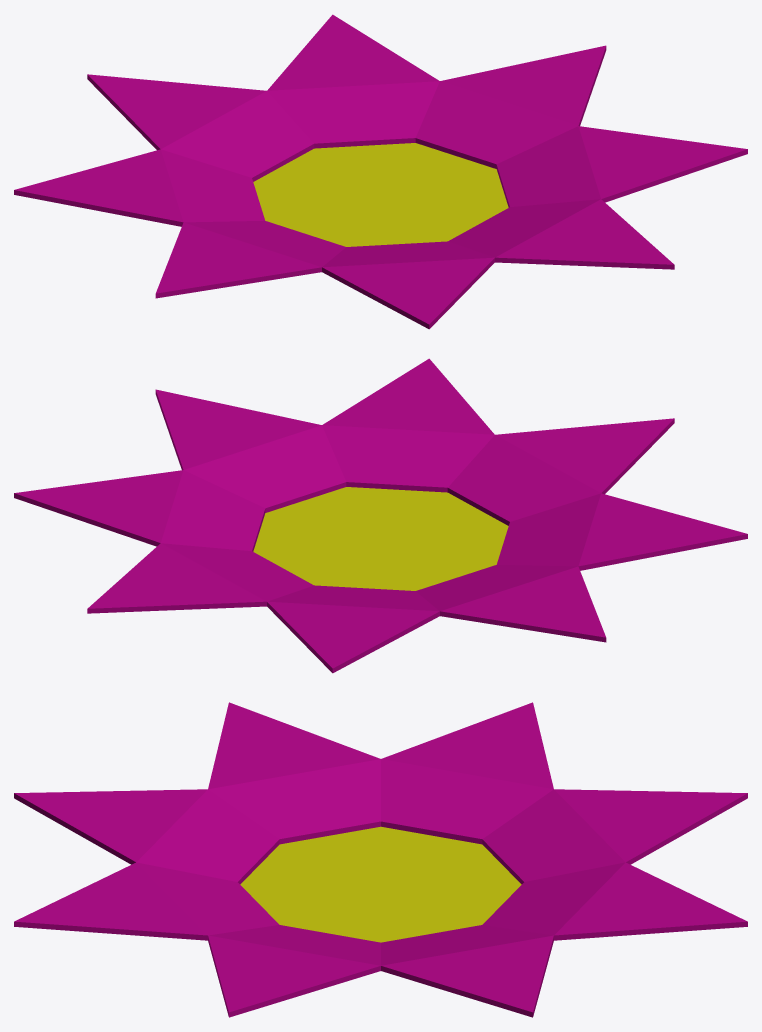
Rendered from cactus bloem.fbx.
3 views of the same model, one above another, from view 1: azimuth 30°, elevation 25°; view 2: azimuth 150°, elevation 25°; view 3: azimuth 270°, elevation 25° (orthographic). The views are drawn at different scales.
Parts seen in each view (by area): view 1: cactus bloem; view 2: cactus bloem; view 3: cactus bloem.
Boxes of the visible parts, <box> form: cactus bloem: <box>14,14,747,329</box>; cactus bloem: <box>14,358,747,673</box>; cactus bloem: <box>14,702,747,1017</box>.
Size of the model in its own units: 0.4 by 0.0208 by 0.4.
